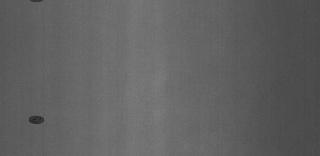oil spot: (27, 113, 47, 127), (29, 0, 47, 4)
